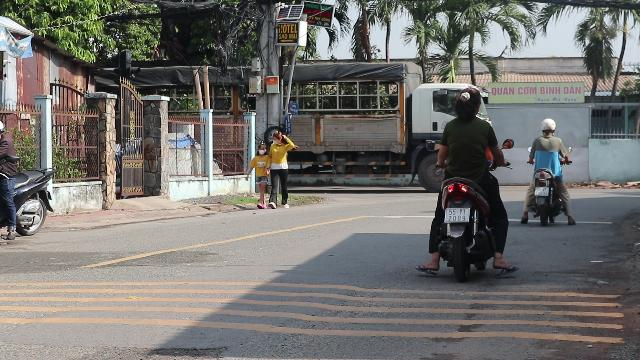licenseplate: (445, 208, 469, 222)
motorcyclist: (421, 84, 513, 279)
nohelmet: (452, 87, 482, 119)
